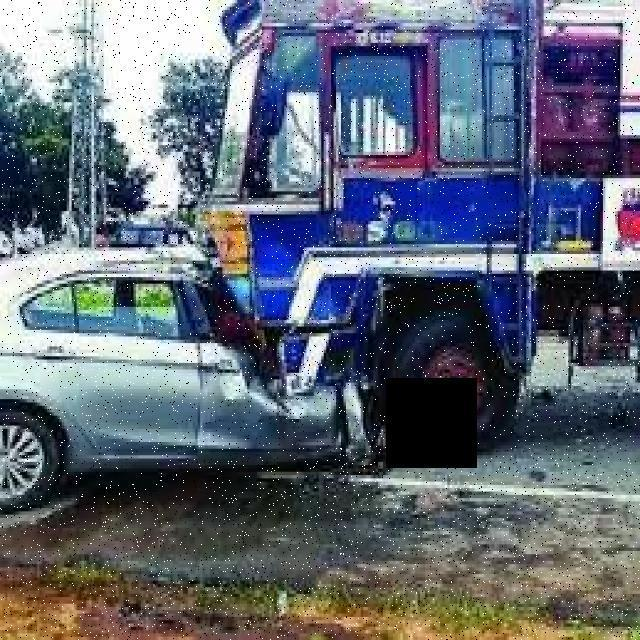multiple_accident: (141, 130, 553, 546)
